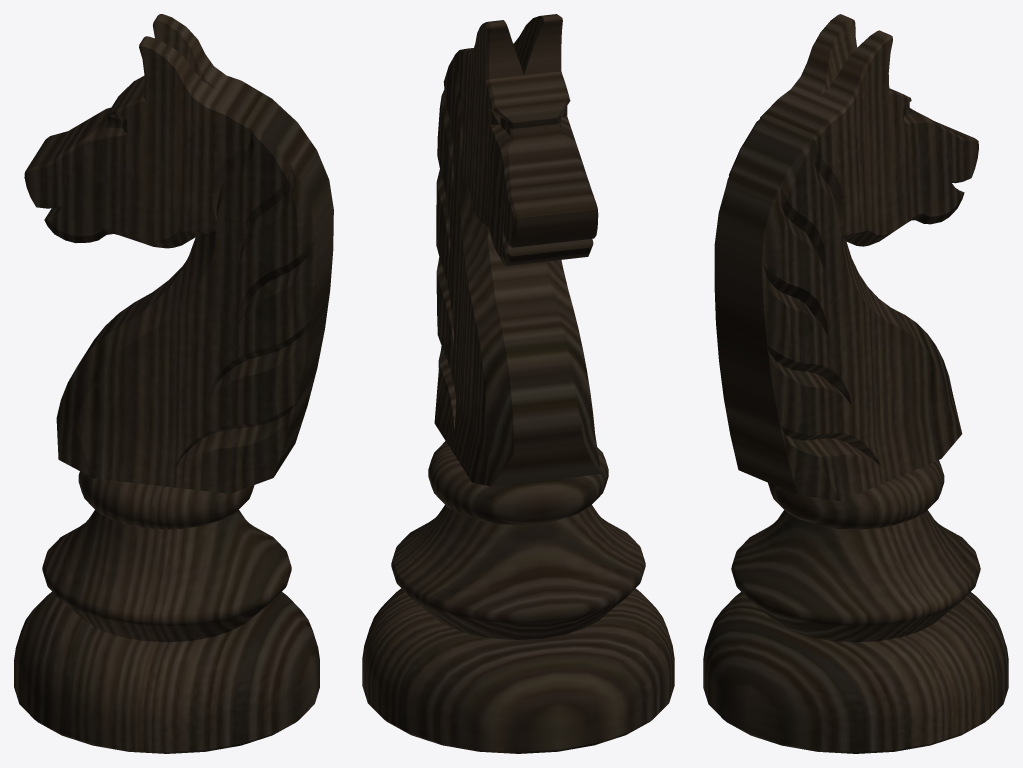
File: black_knight.gltf
3 views of the same model, side by side, from view 1: azimuth 30°, elevation 25°; view 2: azimuth 150°, elevation 25°; view 3: azimuth 270°, elevation 25° (orthographic). The views are drawn at different scales.
Visible parts, largest first — view 1: Material2051, Material2052; view 2: Material2052, Material2051; view 3: Material2051, Material2052.
Part boxes in pixels (x1,y1,x2,y2): Material2051: [24, 14, 333, 493]; Material2052: [14, 471, 319, 753]; Material2052: [362, 441, 674, 753]; Material2051: [434, 14, 601, 486]; Material2051: [714, 14, 978, 501]; Material2052: [703, 460, 1008, 753].
Size of the model in its own units: 0.1811 by 0.4322 by 0.1811.
Materials: 1 (1 with a texture image).
